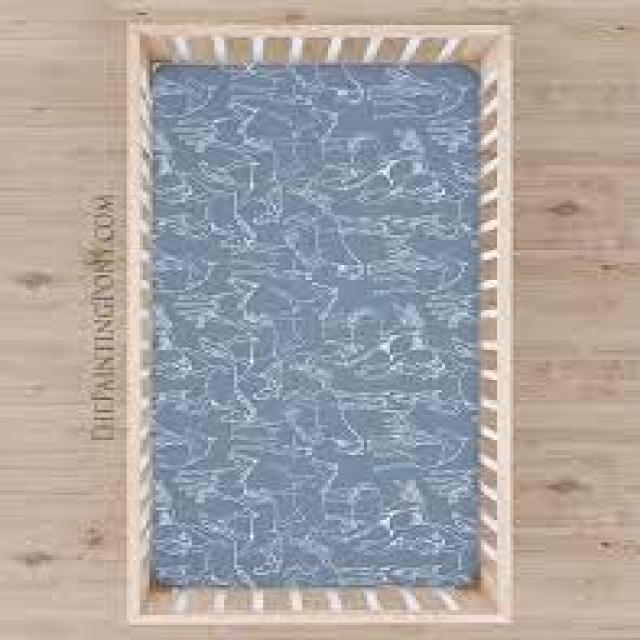crib: (120, 15, 517, 627)
